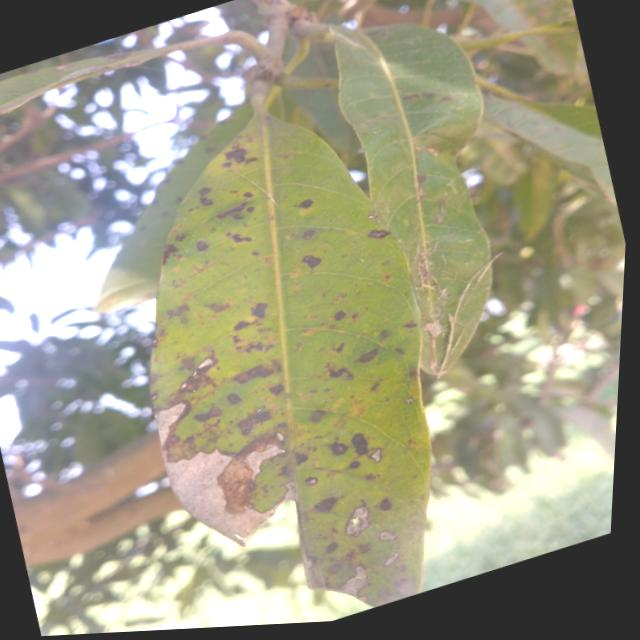Anthracnose: (152, 371, 401, 563), (154, 278, 284, 397), (307, 280, 425, 399), (199, 376, 292, 448), (188, 180, 267, 260), (216, 139, 260, 174), (156, 228, 190, 263), (365, 217, 394, 246), (297, 245, 326, 273), (293, 194, 316, 212)
